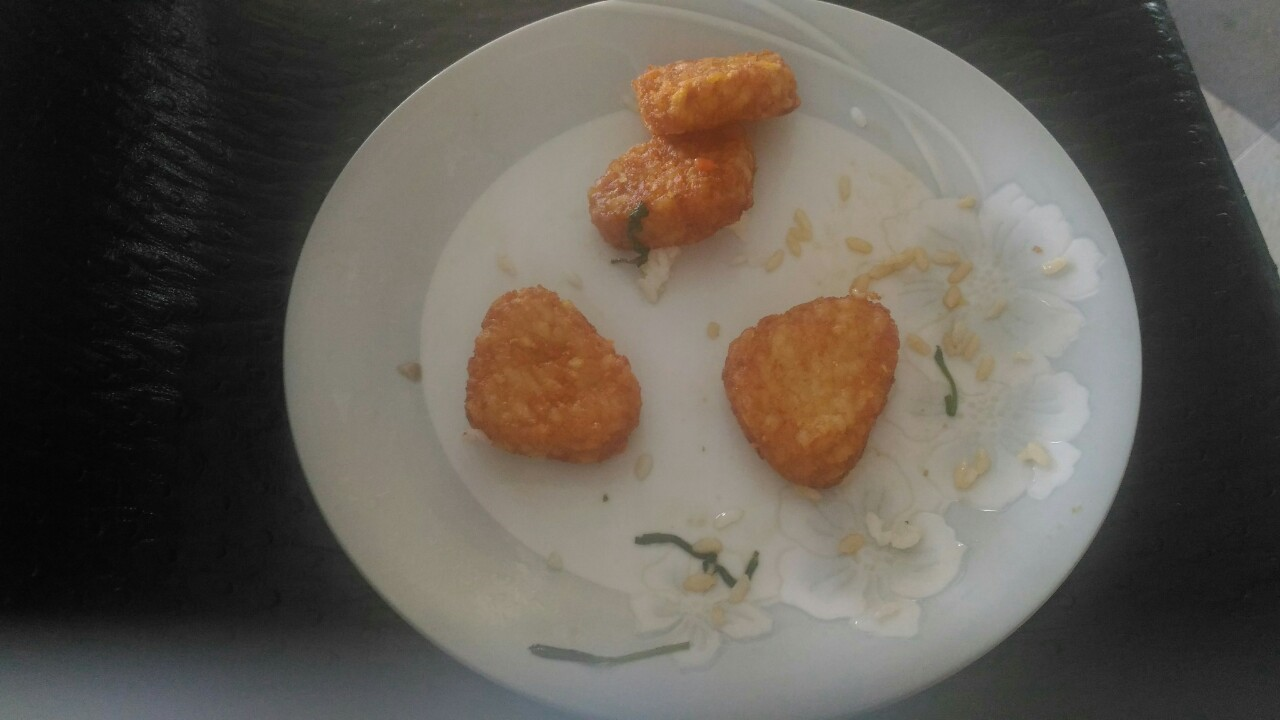triangle_hash_brown: (584, 46, 798, 256), (717, 294, 900, 492), (465, 283, 642, 467)
